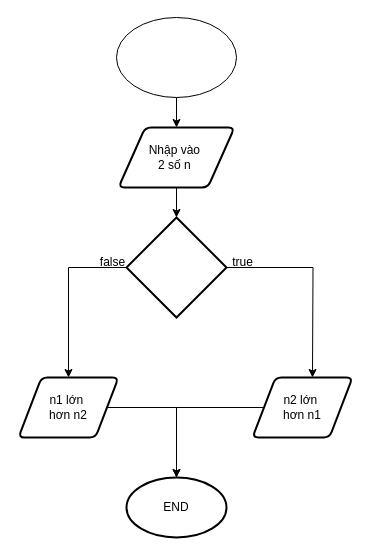
This 370x556 diagram has some shape labels left out. Each missing label, with the box of its shape:
n1 < n2: (125, 216, 227, 318)
START: (116, 16, 236, 98)
